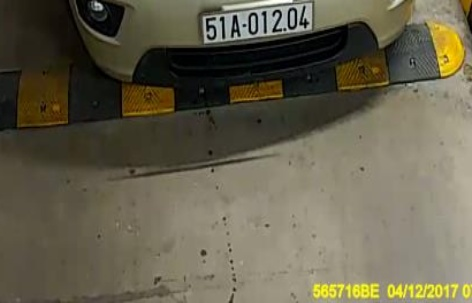plate: (195, 1, 319, 46)
